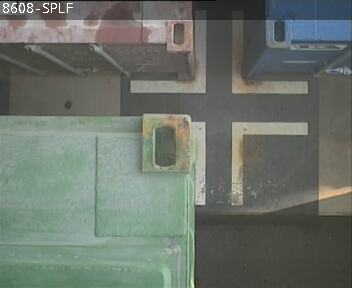groundmarker_1: (129, 10, 309, 93), (185, 121, 306, 205)
